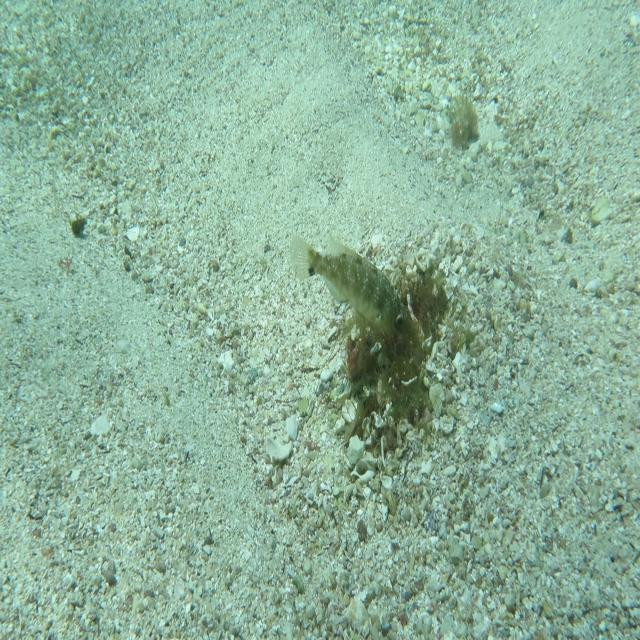NIP_CORE: (288, 228, 412, 349)
nest: (339, 252, 455, 453)
vegetation: (448, 93, 480, 152), (70, 211, 89, 243)
